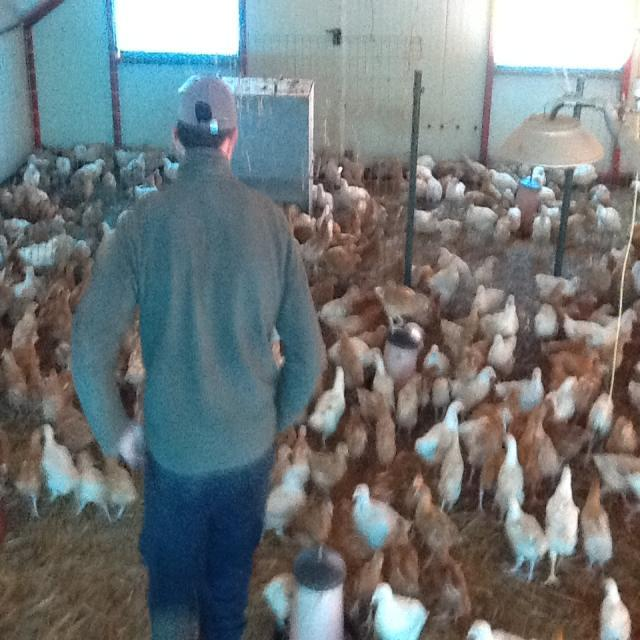poussin: (36, 366, 98, 450), (412, 477, 478, 552), (542, 464, 580, 592), (594, 446, 640, 534), (500, 492, 545, 580), (352, 476, 404, 550), (380, 517, 424, 600), (96, 444, 140, 524), (431, 530, 469, 620), (268, 463, 312, 536), (581, 472, 614, 569), (370, 586, 428, 640), (524, 404, 558, 494), (463, 406, 513, 466), (308, 362, 347, 438), (41, 420, 74, 508), (415, 398, 468, 452), (374, 276, 426, 331), (564, 308, 640, 344), (346, 546, 388, 609), (594, 569, 630, 640), (17, 427, 45, 518), (70, 446, 106, 516), (334, 328, 366, 400), (254, 570, 291, 630), (439, 304, 486, 351), (309, 440, 352, 490), (453, 365, 502, 408), (467, 607, 530, 640), (374, 402, 402, 475), (577, 360, 612, 418), (498, 365, 542, 408), (304, 493, 334, 556), (426, 254, 462, 306), (551, 420, 600, 458), (318, 288, 362, 330), (501, 434, 524, 514), (441, 430, 463, 513), (350, 376, 389, 422), (547, 368, 579, 424), (330, 333, 379, 369), (0, 341, 27, 405), (7, 296, 40, 348), (401, 367, 426, 435), (307, 219, 342, 265), (601, 328, 632, 379), (357, 227, 389, 276), (484, 296, 523, 336), (588, 392, 620, 439), (544, 330, 594, 360), (606, 412, 640, 456), (8, 190, 61, 217), (18, 235, 61, 268), (19, 324, 42, 384), (342, 410, 371, 457), (492, 326, 526, 366), (558, 288, 598, 322), (464, 202, 498, 242), (280, 201, 313, 242), (552, 346, 600, 373), (270, 442, 296, 490), (48, 290, 72, 342), (342, 305, 384, 334), (536, 270, 582, 296), (372, 354, 398, 399), (354, 320, 391, 350), (588, 250, 611, 296), (122, 344, 144, 392), (432, 212, 467, 242), (531, 204, 552, 253), (549, 213, 587, 240), (445, 173, 470, 214), (414, 203, 444, 237), (340, 176, 368, 212), (328, 242, 356, 278), (120, 152, 148, 188), (404, 468, 429, 508), (463, 182, 496, 212), (431, 371, 452, 417), (472, 283, 504, 313), (57, 258, 81, 297), (28, 212, 56, 245), (611, 241, 634, 280), (534, 306, 560, 339), (314, 268, 339, 302), (421, 346, 449, 376), (593, 201, 623, 229), (433, 242, 462, 270), (488, 164, 516, 193), (572, 163, 600, 192), (328, 222, 363, 245), (52, 232, 74, 268), (2, 208, 30, 236), (74, 255, 92, 298), (594, 298, 616, 332), (78, 198, 104, 226), (470, 258, 500, 280), (468, 152, 489, 182), (322, 154, 340, 188), (296, 424, 312, 462), (0, 231, 16, 269), (506, 202, 526, 232), (78, 160, 108, 180), (16, 265, 37, 293), (82, 140, 110, 161), (544, 163, 566, 189), (346, 208, 368, 234), (54, 155, 74, 183), (540, 184, 562, 209), (94, 209, 115, 234), (418, 150, 441, 172), (145, 148, 168, 170), (429, 177, 444, 209), (130, 182, 158, 199), (496, 214, 508, 252), (75, 178, 98, 197), (316, 178, 332, 204), (27, 150, 53, 166), (104, 170, 121, 194), (630, 259, 640, 299), (590, 186, 614, 202), (26, 165, 42, 189), (315, 204, 332, 226), (536, 199, 560, 214), (162, 160, 180, 180), (414, 167, 436, 183), (500, 184, 517, 202), (75, 232, 86, 258), (62, 204, 76, 223), (532, 167, 545, 185), (416, 178, 426, 198), (74, 148, 86, 162)
